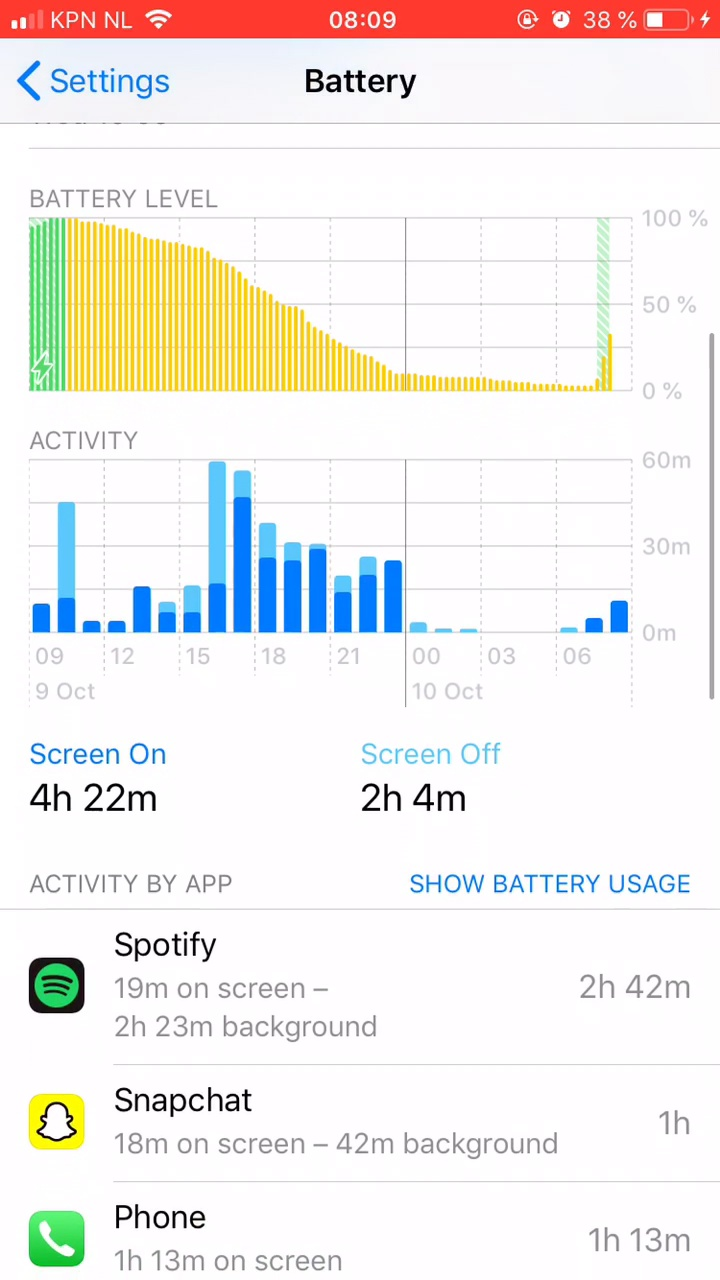app: (17, 929, 700, 1050), (17, 1076, 702, 1166), (20, 1183, 705, 1273)
